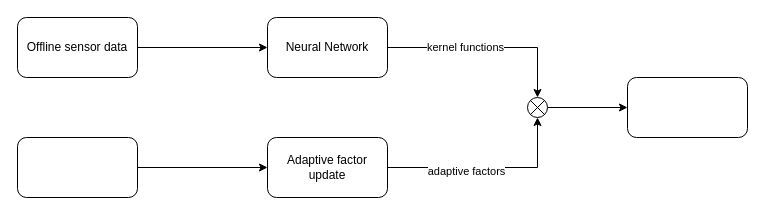
The diagram is 765 pixels wide and 215 high, and some of its shapes have lost their labels. Here are the shapes that lost their labels. From the top down, the centre of each, then its label:
At point 687,107: "Estimated disturbance".
At point 77,167: "Online sensor data".
